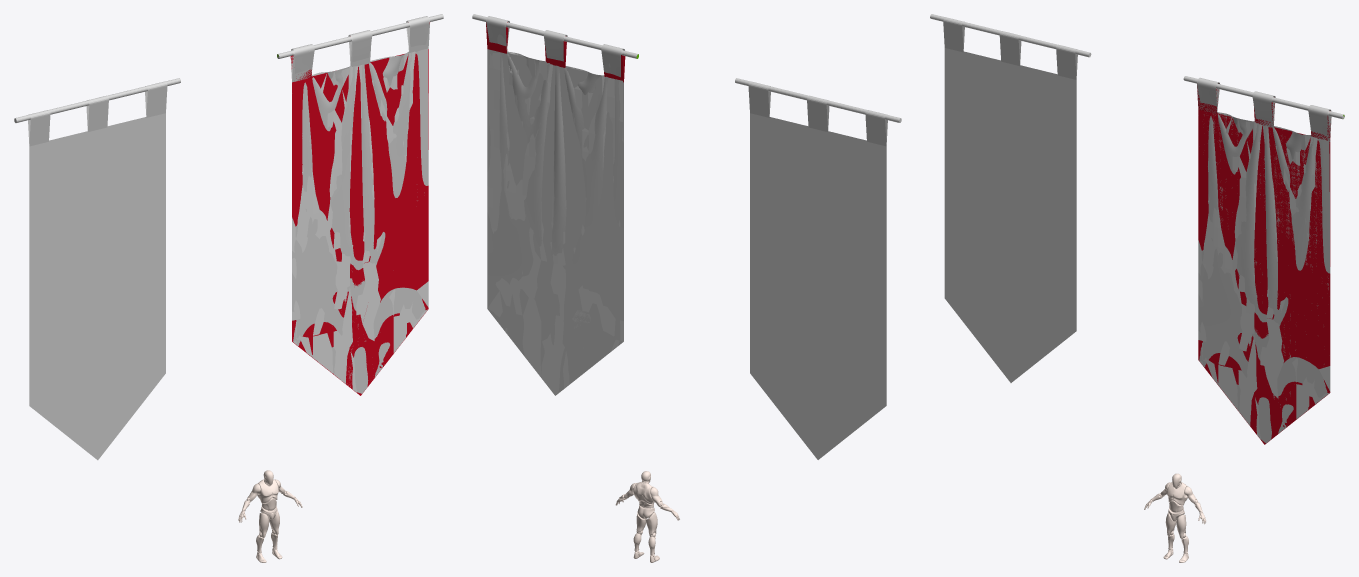
The model's file is SM_Bandera_Low.fbx.
3 renders of one model, left to right at view 1: azimuth 30°, elevation 25°; view 2: azimuth 150°, elevation 25°; view 3: azimuth 330°, elevation 25°, orthographic. The views are drawn at different scales.
Visible parts, largest first — view 1: Flag_Low.001, Flag_low, SM_Flag_High, SM_Flag, Sujetaciones_Low.001, Geom_Character_Size, Sujetaciones_high, Palo_Low.001, Palo_high; view 2: Flag_Low.001, SM_Flag_High, Flag_high, SM_Flag, Sujetaciones_Low.001, Geom_Character_Size, Flag_low, Palo_Low.001, Palo_high; view 3: Flag_Low.001, Flag_low, SM_Flag_High, SM_Flag, Sujetaciones_Low.001, Geom_Character_Size, Flag_high, Palo_Low.001, Palo_high, Sujetaciones_high.
Boxes of the visible parts, x1,y1,x2,y2 form: Flag_Low.001: (29,113,165,460); Flag_low: (277,22,429,395); SM_Flag_High: (292,16,429,393); SM_Flag: (291,20,428,392); Sujetaciones_Low.001: (28,81,167,146); Geom_Character_Size: (238,470,302,562); Sujetaciones_high: (290,19,430,82); Palo_Low.001: (14,78,180,122); Palo_high: (277,14,443,58); Flag_Low.001: (750,113,886,459); SM_Flag_High: (486,16,623,392); Flag_high: (487,49,623,395); SM_Flag: (487,20,624,395); Sujetaciones_Low.001: (748,81,887,146); Geom_Character_Size: (615,471,679,562); Flag_low: (486,22,638,82); Palo_Low.001: (735,78,901,122); Palo_high: (472,14,638,58); Flag_Low.001: (944,48,1076,382); Flag_low: (1197,86,1344,444); SM_Flag_High: (1197,78,1331,443); SM_Flag: (1198,82,1330,439); Sujetaciones_Low.001: (943,17,1077,79); Geom_Character_Size: (1144,473,1206,562); Flag_high: (1204,113,1328,407); Palo_Low.001: (930,14,1091,57); Palo_high: (1183,76,1344,119); Sujetaciones_high: (1197,80,1331,141).
Bounding box in the file's own units: 938 × 1056 × 36.72.
